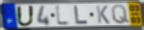4: (36, 5, 52, 27)
K: (96, 5, 111, 25)
L: (55, 3, 73, 27), (74, 6, 89, 26)
Q: (111, 4, 131, 25)
U: (15, 5, 36, 28)
